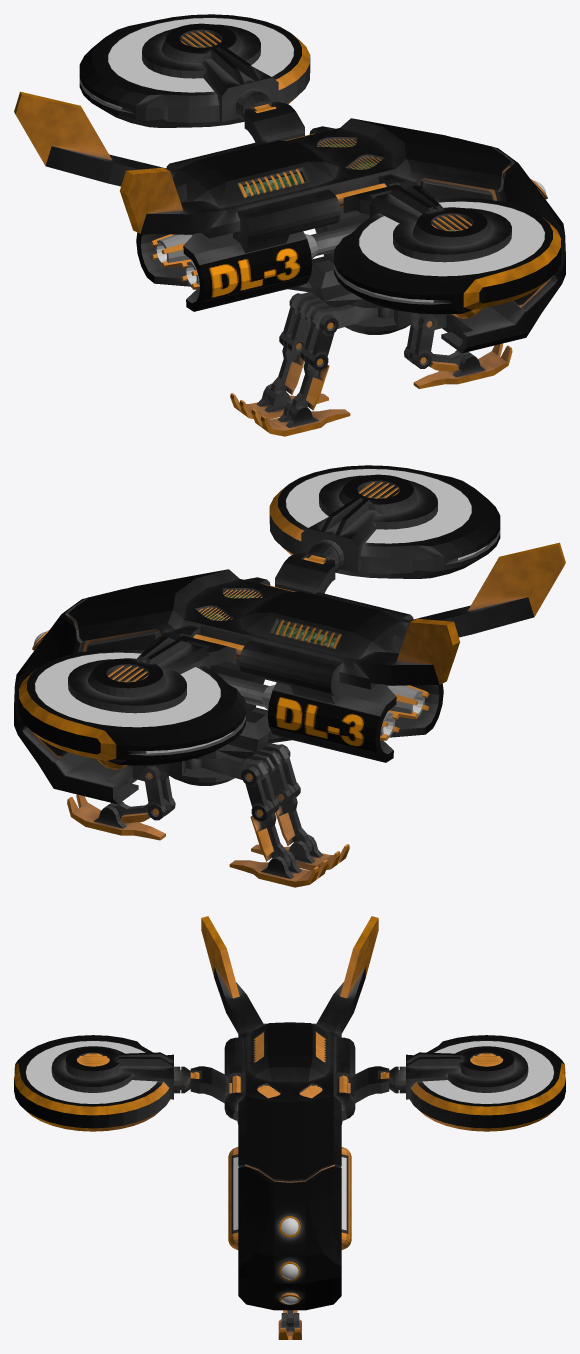
The model's file is dron.obj.
3 renders of one model, top to bottom at view 1: azimuth 30°, elevation 25°; view 2: azimuth 150°, elevation 25°; view 3: azimuth 270°, elevation 25°, orthographic. The views are drawn at different scales.
Visible parts, largest first — view 1: DRON_DL-3.007_Cube.007, DRON_DL-3.001_Cube.000, DRON_DL-3.002_Cube.002, Cube_Cube.001, Cube.001_Cube.023, DRON_DL-3.010_Cube.010, DRON_DL-3.005_Cube.005, DRON_DL-3.012_Cube.012, DRON_DL-3.017_Cube.017, DRON_DL-3.015_Cube.015, DRON_DL-3.011_Cube.011, DRON_DL-3.008_Cube.008 (+6 smaller); view 2: DRON_DL-3.007_Cube.007, DRON_DL-3.002_Cube.002, DRON_DL-3.001_Cube.000, Cube.001_Cube.023, Cube_Cube.001, DRON_DL-3.010_Cube.010, DRON_DL-3.006_Cube.006, DRON_DL-3.011_Cube.011, DRON_DL-3_Cube.045, DRON_DL-3.016_Cube.016, DRON_DL-3.012_Cube.012, DRON_DL-3.008_Cube.008 (+6 smaller); view 3: DRON_DL-3.007_Cube.007, DRON_DL-3.001_Cube.000, DRON_DL-3.002_Cube.002, Cube_Cube.001, Cube.001_Cube.023, DRON_DL-3.005_Cube.005, DRON_DL-3.006_Cube.006.
Part boxes in pixels (x1=…): DRON_DL-3.007_Cube.007: x1=14, y1=91, x2=565, y2=353; DRON_DL-3.001_Cube.000: x1=334, y1=185, x2=561, y2=314; DRON_DL-3.002_Cube.002: x1=79, y1=14, x2=310, y2=127; Cube_Cube.001: x1=359, y1=201, x2=544, y2=276; Cube.001_Cube.023: x1=108, y1=18, x2=293, y2=92; DRON_DL-3.010_Cube.010: x1=413, y1=343, x2=512, y2=388; DRON_DL-3.005_Cube.005: x1=244, y1=101, x2=315, y2=143; DRON_DL-3.012_Cube.012: x1=251, y1=399, x2=350, y2=436; DRON_DL-3.017_Cube.017: x1=305, y1=302, x2=393, y2=329; DRON_DL-3.015_Cube.015: x1=300, y1=308, x2=338, y2=370; DRON_DL-3.011_Cube.011: x1=230, y1=383, x2=328, y2=419; DRON_DL-3.008_Cube.008: x1=404, y1=315, x2=437, y2=368; DRON_DL-3.007_Cube.007: x1=14, y1=542, x2=565, y2=804; DRON_DL-3.002_Cube.002: x1=18, y1=636, x2=245, y2=765; DRON_DL-3.001_Cube.000: x1=269, y1=465, x2=500, y2=578; Cube.001_Cube.023: x1=35, y1=652, x2=220, y2=727; Cube_Cube.001: x1=286, y1=469, x2=471, y2=543; DRON_DL-3.010_Cube.010: x1=67, y1=794, x2=165, y2=840; DRON_DL-3.006_Cube.006: x1=264, y1=552, x2=335, y2=594; DRON_DL-3.011_Cube.011: x1=229, y1=850, x2=328, y2=887; DRON_DL-3_Cube.045: x1=186, y1=753, x2=274, y2=780; DRON_DL-3.016_Cube.016: x1=241, y1=759, x2=279, y2=821; DRON_DL-3.012_Cube.012: x1=251, y1=834, x2=349, y2=870; DRON_DL-3.008_Cube.008: x1=141, y1=766, x2=175, y2=820; DRON_DL-3.007_Cube.007: x1=201, y1=916, x2=378, y2=1310; DRON_DL-3.001_Cube.000: x1=14, y1=1035, x2=181, y2=1131; DRON_DL-3.002_Cube.002: x1=398, y1=1035, x2=565, y2=1131; Cube_Cube.001: x1=26, y1=1041, x2=157, y2=1103; Cube.001_Cube.023: x1=422, y1=1041, x2=553, y2=1103; DRON_DL-3.005_Cube.005: x1=337, y1=1066, x2=389, y2=1103; DRON_DL-3.006_Cube.006: x1=190, y1=1066, x2=242, y2=1103.
Bounding box in the file's own units: 0.9455 × 0.619 × 1.17.
